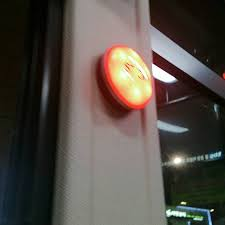bell: (97, 43, 155, 121)
